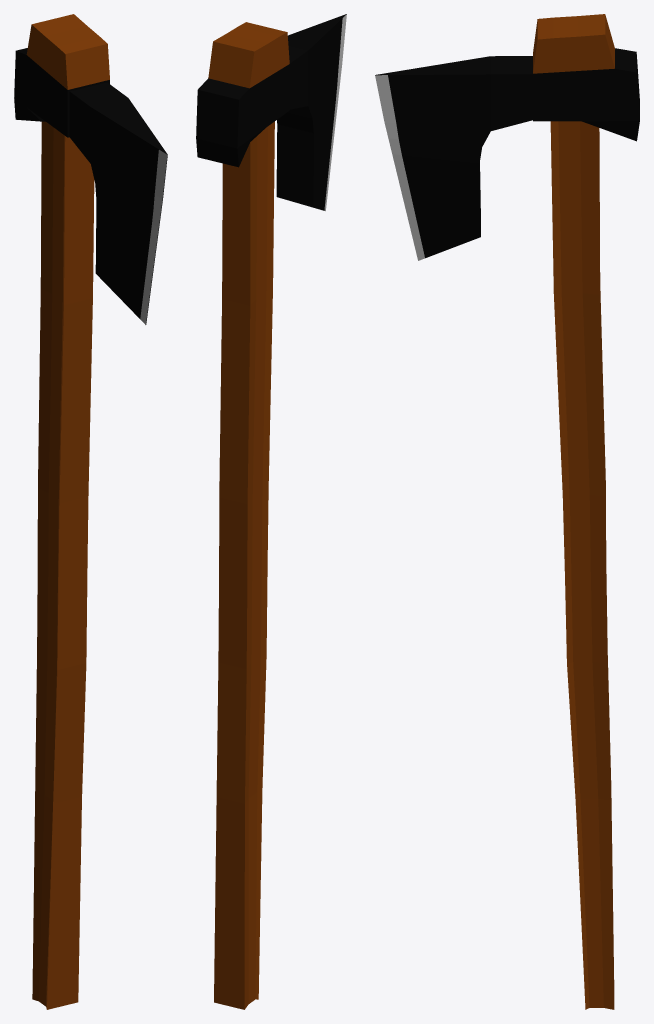
File: masakari.fbx
3 renders of one model, left to right at view 1: azimuth 30°, elevation 25°; view 2: azimuth 150°, elevation 25°; view 3: azimuth 270°, elevation 25°, orthographic. The views are drawn at different scales.
Visible parts, largest first — view 1: Cube; view 2: Cube; view 3: Cube.
Part boxes in pixels (x1,y1,x2,y2): Cube: (14, 14, 167, 1009); Cube: (196, 14, 346, 1009); Cube: (375, 14, 639, 1009).
Bounding box in the file's own units: 43.73 × 966 × 237.
